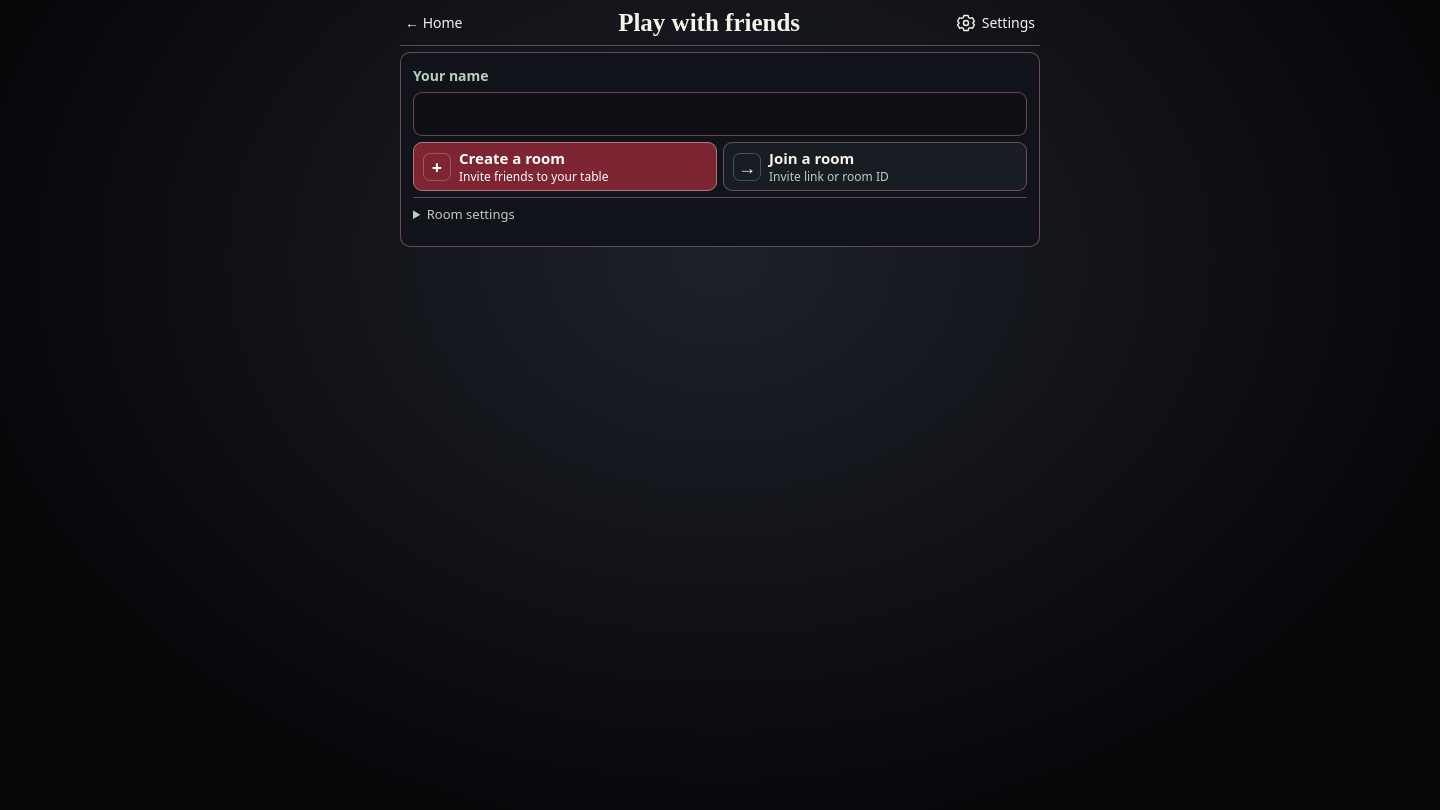
Test: a late poll cannot replace a newer confirmed move with the old lobby
The image size is (1440, 810).
Type "Host" into the field labelled "Your name" at (720, 114), box x1=413 y1=92 x2=1027 y2=136
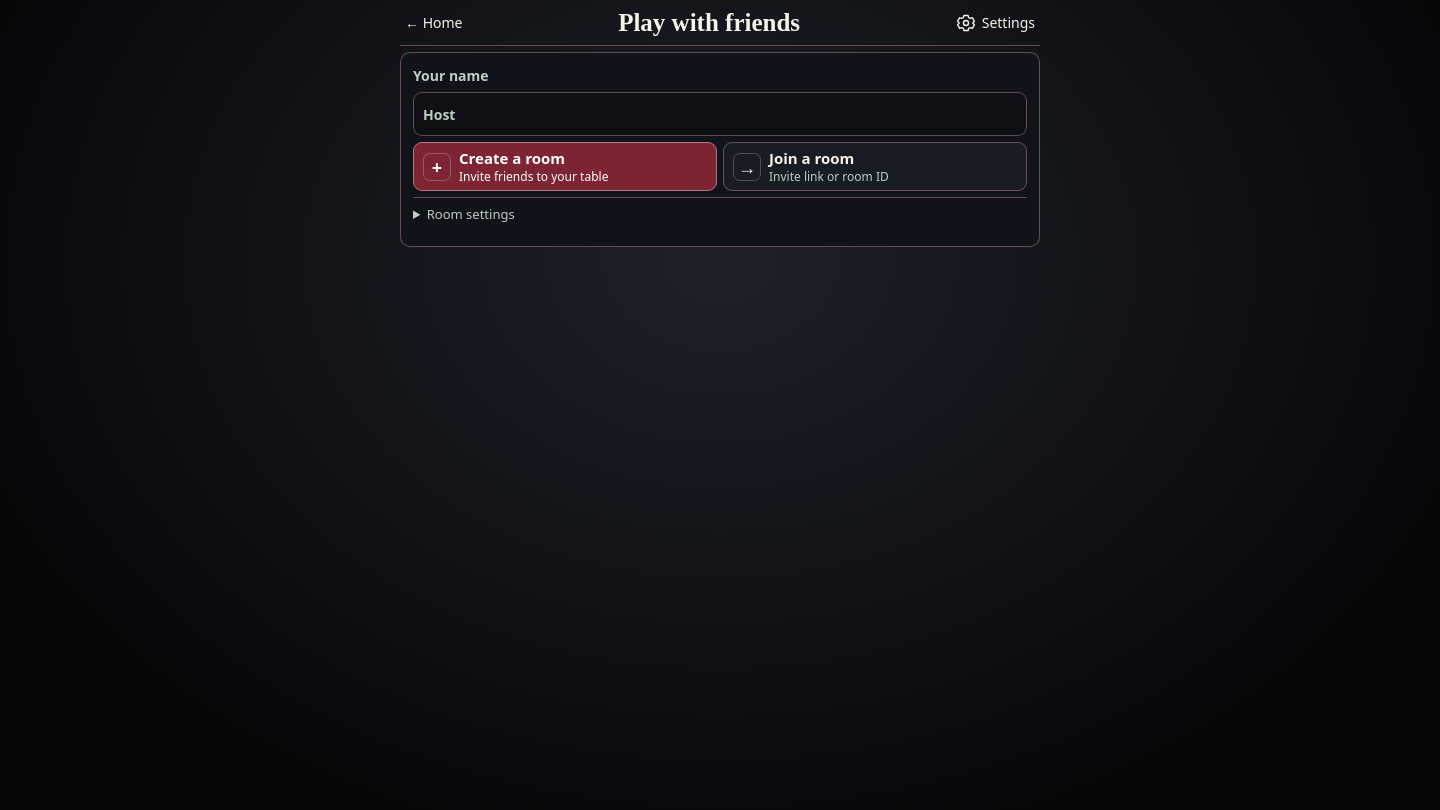
Click the button "Create a room" at (565, 166), box x1=413 y1=142 x2=717 y2=191
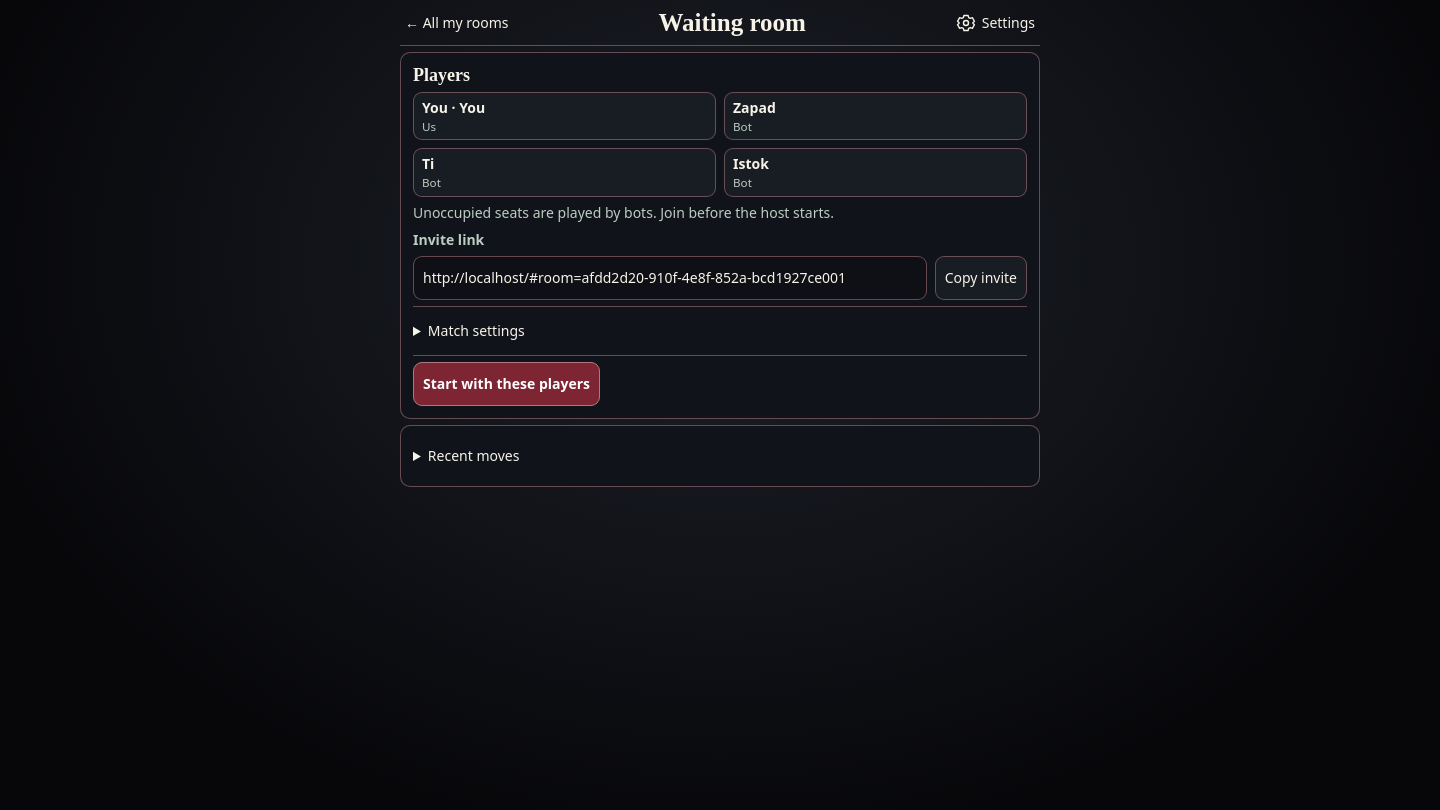
Click the button "Start with these players" at (507, 384), box x1=413 y1=362 x2=600 y2=406
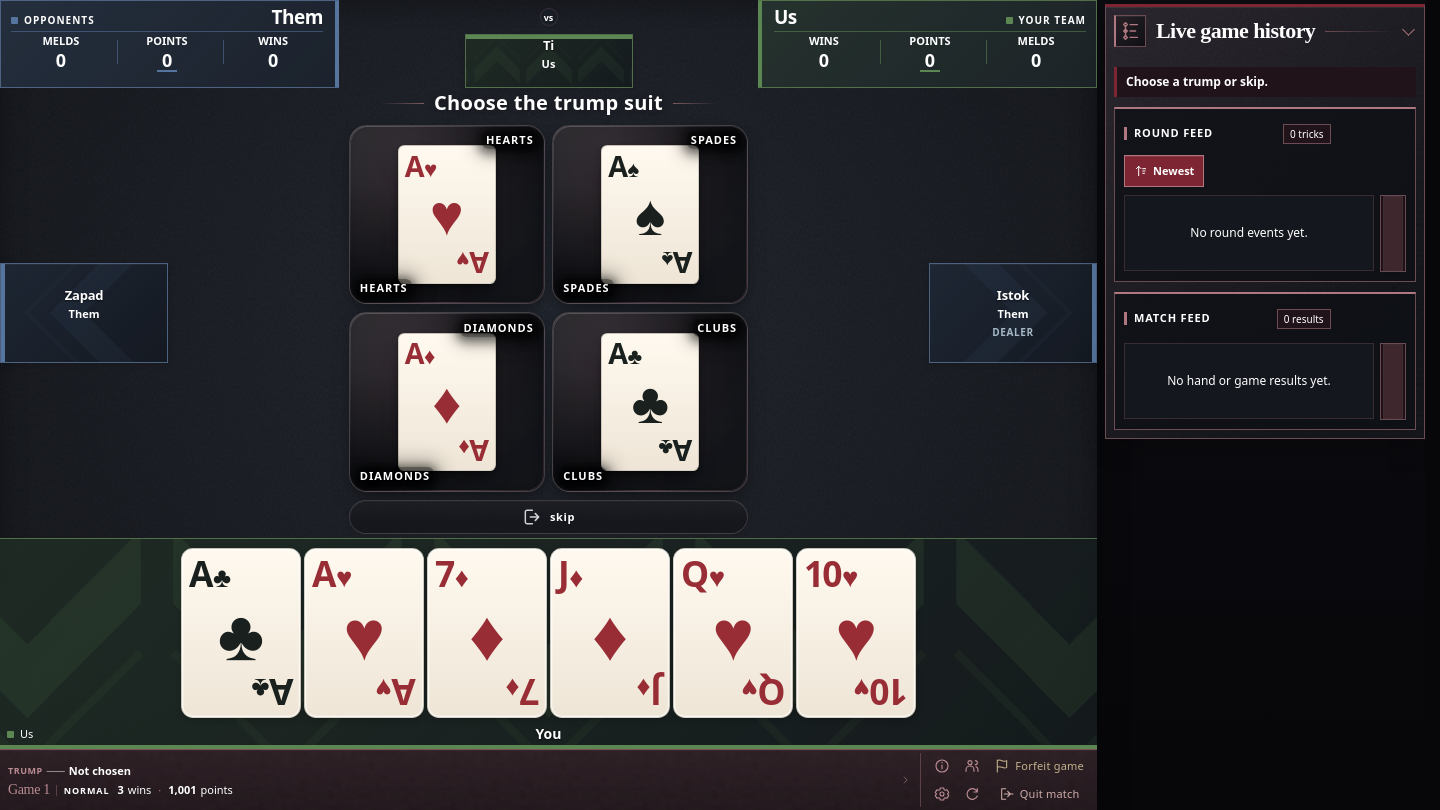
Expected: the button "Start with these players" is gone
Expected: the button "A ♥ ♥ A ♥ hearts hearts" is enabled, x1=349 y1=125 x2=545 y2=304
